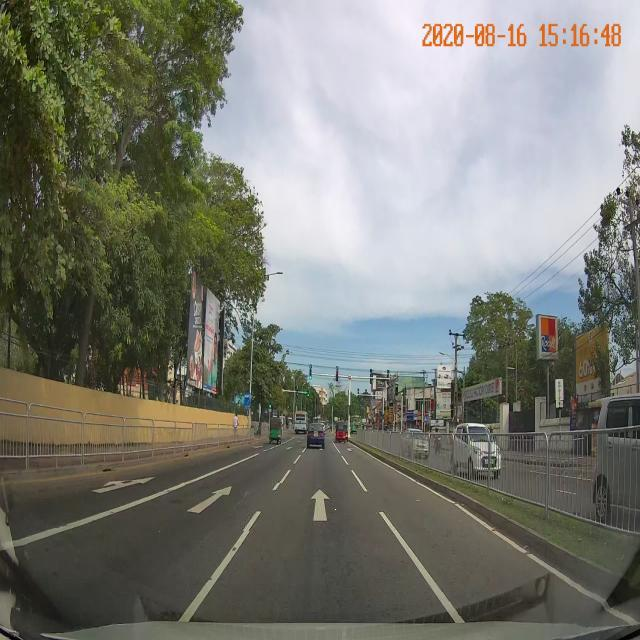forward: (244, 483, 394, 531)
